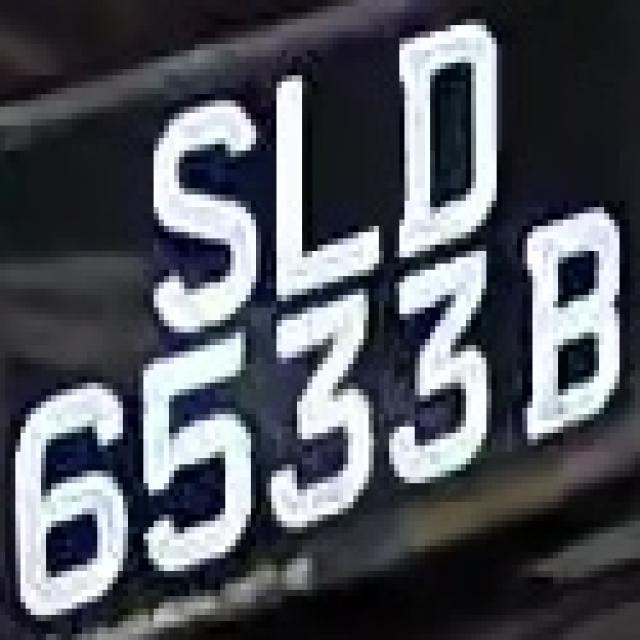3: (256, 282, 384, 552), (374, 245, 486, 502)
5: (123, 327, 256, 602)
6: (15, 364, 138, 640)
B: (492, 195, 624, 458)
D: (384, 6, 512, 258)
L: (246, 44, 379, 307)
S: (133, 75, 261, 358)
